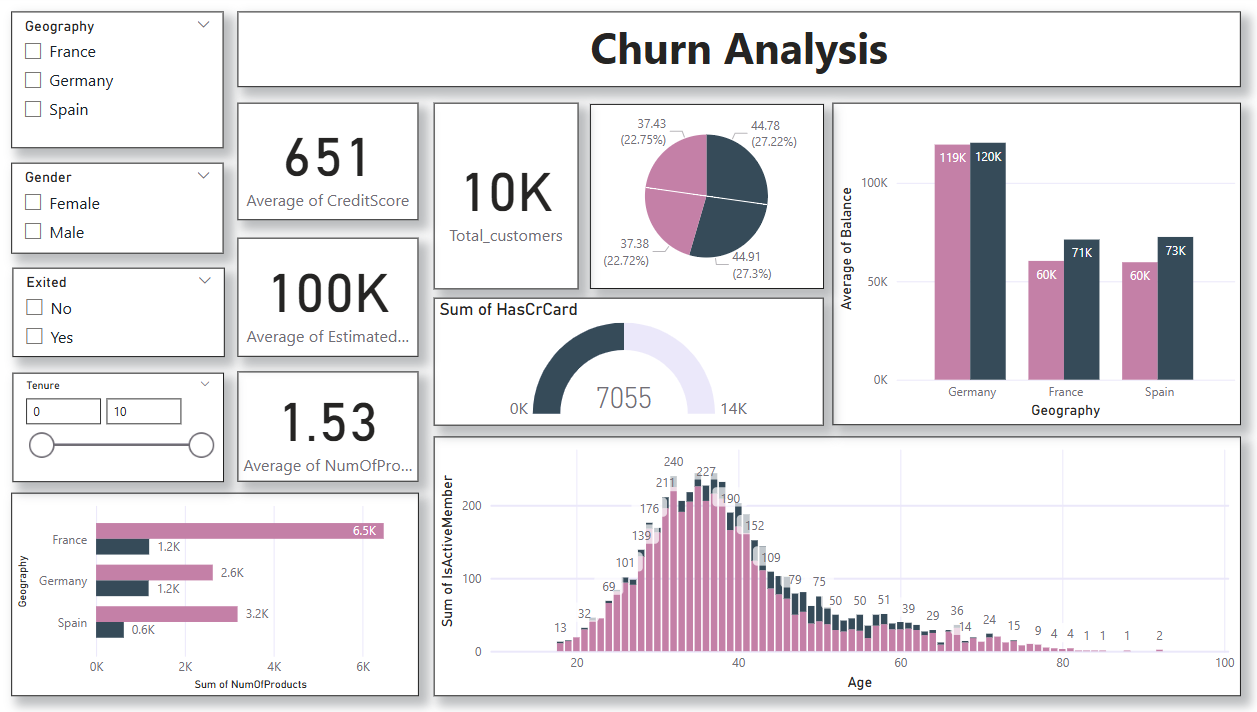

This screenshot's page, from the dashboard's own definition file:
{"tool":"powerbi","page":{"name":"Page 1","canvas":[1280,720],"ordinal":0},"visuals":[{"type":"slicer","fields":{"Values":["Churn_Modelling.Geography"]},"box":[26.2,17.5,211.2,136.2],"z":0},{"type":"slicer","fields":{"Values":["Churn_Modelling.Gender"]},"box":[26.2,167.5,211.2,90],"z":1000},{"type":"clusteredColumnChart","fields":{"Series":["Churn_Modelling.Exited"],"Category":["Churn_Modelling.NumOfProducts"],"Y":["CountNonNull(Churn_Modelling.CustomerId)"]},"box":[26.1,500.1,405.5,199],"z":2000},{"type":"textbox","box":[251.2,17.5,998.8,75],"z":3000},{"type":"lineStackedColumnComboChart","fields":{"Category":["Churn_Modelling.Age"],"Series":["Churn_Modelling.Exited"],"Y":["CountNonNull(Churn_Modelling.IsActiveMember)"]},"box":[446.6,440.4,803.6,258.7],"z":4000},{"type":"clusteredColumnChart","fields":{"Y":["Avg(Churn_Modelling.Balance)"],"Series":["Churn_Modelling.Exited"],"Category":["Churn_Modelling.Geography"]},"box":[848.4,108.2,401.8,320.9],"z":5000},{"type":"pieChart","fields":{"Y":["Avg(Churn_Modelling.Age)"],"Category":["Churn_Modelling.Exited"],"Series":["Churn_Modelling.Gender"]},"box":[602.1,109.5,232.6,184.1],"z":6000},{"type":"slicer","fields":{"Values":["Churn_Modelling.Exited"]},"box":[27.5,272.5,211.2,88.8],"z":7000},{"type":"card","fields":{"Values":["Churn_Modelling.Total_customers"]},"box":[446.6,108.2,144.3,185.3],"z":8000},{"type":"card","fields":{"Values":["Avg(Churn_Modelling.CreditScore)"]},"box":[251.3,108.2,180.4,116.9],"z":9000},{"type":"gauge","title":"no. of Credit Card holders","fields":{"Y":["CountNonNull(Churn_Modelling.HasCrCard)"]},"box":[446.6,302.3,388.1,126.9],"z":10000},{"type":"card","fields":{"Values":["Avg(Churn_Modelling.NumOfProducts)"]},"box":[251.3,375.7,180.4,109.5],"z":11000},{"type":"slicer","fields":{"Values":["Churn_Modelling.Tenure"]},"box":[27.5,377.5,210,108.8],"z":12000},{"type":"card","fields":{"Values":["Avg(Churn_Modelling.EstimatedSalary)"]},"box":[251.3,242.6,180.4,118.2],"z":13000}]}

Visuals, with their boxes in screenshot pixels (x1, y1, x2, y2), scaled from the page's 1280x720 canvas onto the 1257x712 screenshot:
slicer - Churn_Modelling.Geography: pyautogui.locateOnScreen(26, 17, 233, 152)
slicer - Churn_Modelling.Gender: pyautogui.locateOnScreen(26, 166, 233, 255)
clusteredColumnChart - Churn_Modelling.Exited x Churn_Modelling.NumOfProducts: pyautogui.locateOnScreen(26, 495, 424, 691)
textbox: pyautogui.locateOnScreen(247, 17, 1228, 91)
lineStackedColumnComboChart - Churn_Modelling.Age x Churn_Modelling.Exited: pyautogui.locateOnScreen(439, 436, 1228, 691)
clusteredColumnChart - Avg(Churn_Modelling.Balance) x Churn_Modelling.Exited: pyautogui.locateOnScreen(833, 107, 1228, 424)
pieChart - Avg(Churn_Modelling.Age) x Churn_Modelling.Exited: pyautogui.locateOnScreen(591, 108, 820, 290)
slicer - Churn_Modelling.Exited: pyautogui.locateOnScreen(27, 269, 234, 357)
card - Churn_Modelling.Total_customers: pyautogui.locateOnScreen(439, 107, 580, 290)
card - Avg(Churn_Modelling.CreditScore): pyautogui.locateOnScreen(247, 107, 424, 223)
"no. of Credit Card holders" gauge: pyautogui.locateOnScreen(439, 299, 820, 424)
card - Avg(Churn_Modelling.NumOfProducts): pyautogui.locateOnScreen(247, 372, 424, 480)
slicer - Churn_Modelling.Tenure: pyautogui.locateOnScreen(27, 373, 233, 481)
card - Avg(Churn_Modelling.EstimatedSalary): pyautogui.locateOnScreen(247, 240, 424, 357)
